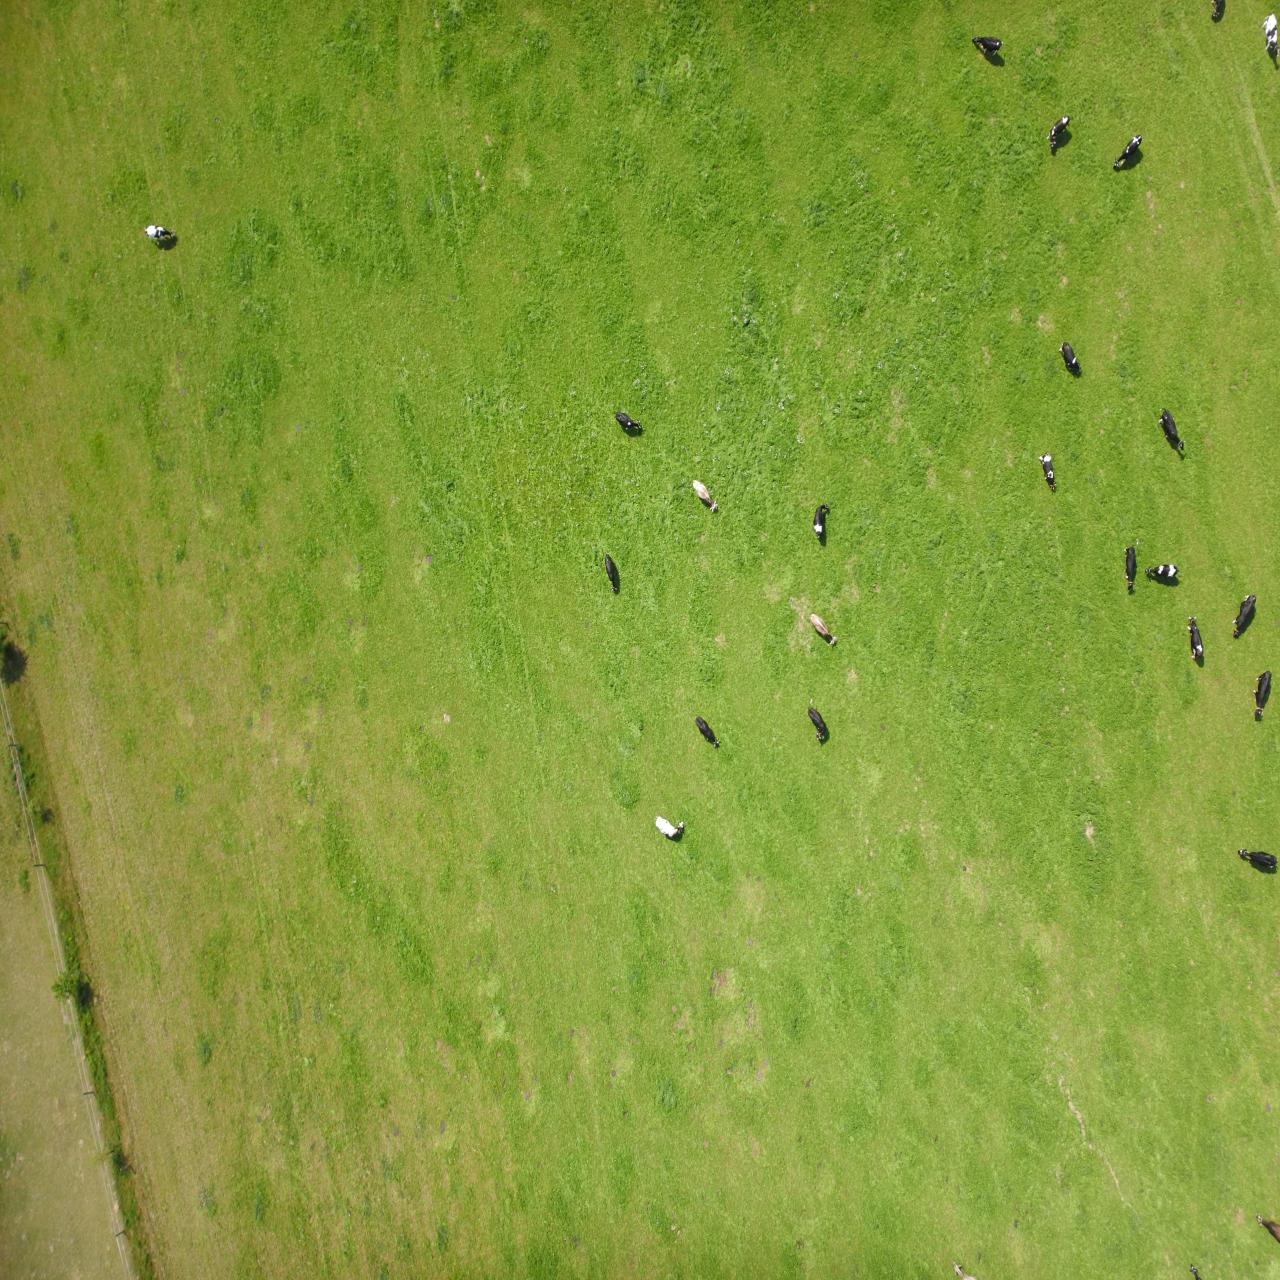cow: (94, 829, 121, 872), (138, 1111, 168, 1145), (23, 642, 47, 685), (7, 564, 27, 610), (443, 634, 470, 667), (141, 689, 156, 743), (1, 410, 42, 430), (559, 532, 585, 564), (563, 768, 587, 799), (455, 539, 472, 583), (0, 1223, 18, 1266), (223, 788, 241, 828), (210, 1132, 233, 1164), (277, 1224, 308, 1247), (198, 905, 220, 938), (76, 621, 93, 665), (597, 443, 625, 468), (451, 741, 467, 777), (98, 701, 135, 716), (1105, 1037, 1135, 1055), (639, 850, 665, 870), (662, 688, 675, 727)
